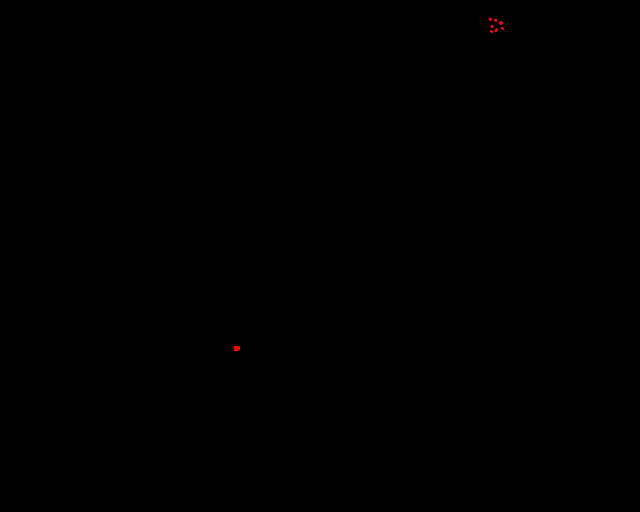Target: (234, 346, 240, 351), (499, 21, 503, 25), (495, 28, 498, 32), (489, 18, 492, 21), (494, 19, 497, 22), (491, 25, 494, 28), (501, 27, 504, 30), (490, 30, 493, 33)
